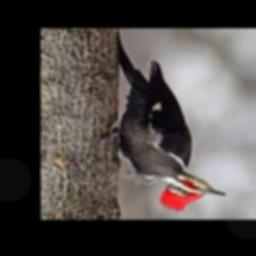Woodpecker: (89, 29, 224, 210)
